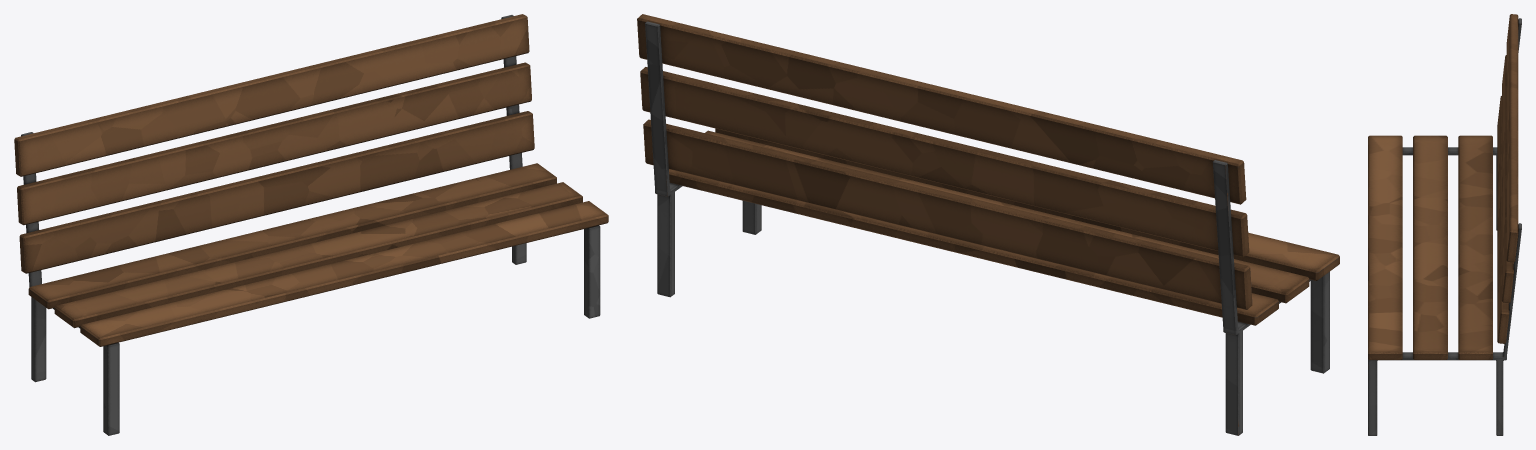
Rendered from BANCO.fbx.
3 renders of one model, left to right at view 1: azimuth 30°, elevation 25°; view 2: azimuth 150°, elevation 25°; view 3: azimuth 270°, elevation 25°, orthographic. The views are drawn at different scales.
Visible parts, largest first — view 1: BANCO_Baked; view 2: BANCO_Baked; view 3: BANCO_Baked.
Boxes of the visible parts, x1,y1,x2,y2 form: BANCO_Baked: (14, 14, 608, 435); BANCO_Baked: (637, 14, 1339, 435); BANCO_Baked: (1368, 14, 1521, 435).
Size of the model in its own units: 391 by 175 by 117.
Materials: 1 (1 with a texture image).
